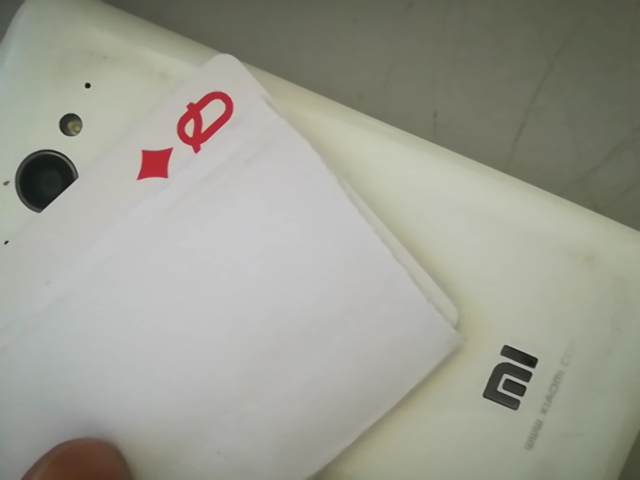fk q: (142, 81, 247, 188)
